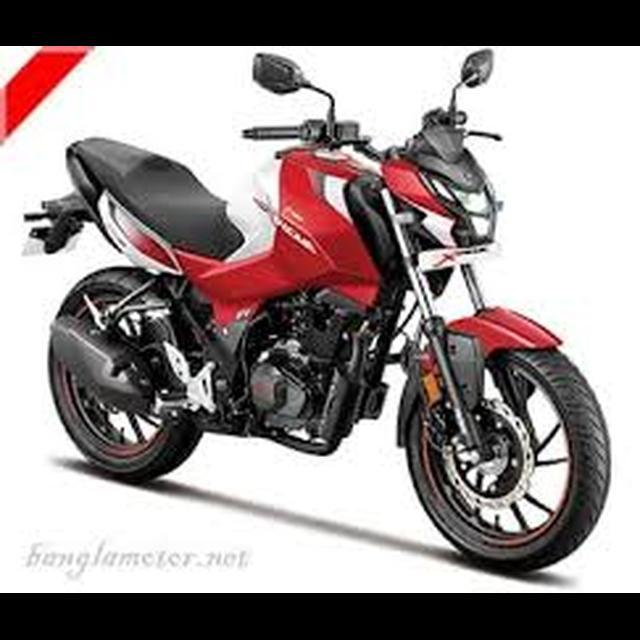motorcycle: (17, 49, 617, 579)
